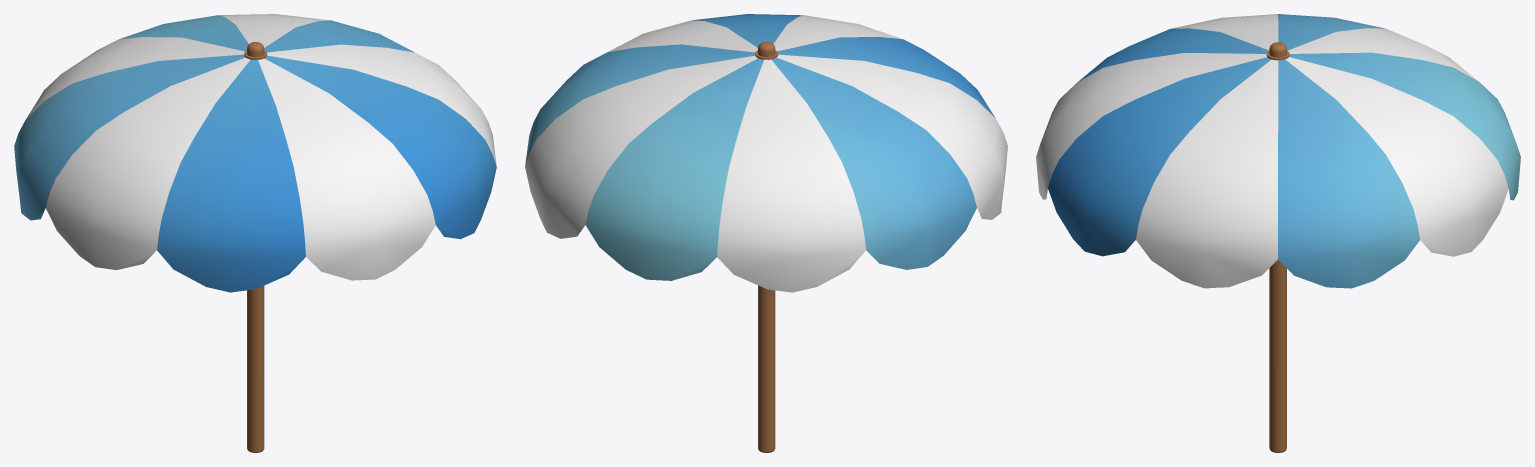
Rendered from beach-umbrella-01.glb.
The picture shows the model from 3 angles, left to right: view 1: azimuth 30°, elevation 25°; view 2: azimuth 150°, elevation 25°; view 3: azimuth 270°, elevation 25°; orthographic projection.
Visible parts, largest first — view 1: beach umbrella 01; view 2: beach umbrella 01; view 3: beach umbrella 01.
Boxes of the visible parts, x1,y1,x2,y2 form: beach umbrella 01: (14, 14, 496, 452); beach umbrella 01: (525, 14, 1007, 452); beach umbrella 01: (1036, 14, 1520, 452).
Size of the model in its own units: 1.97 by 1.82 by 1.97.
Materials: 1 (1 with a texture image).
